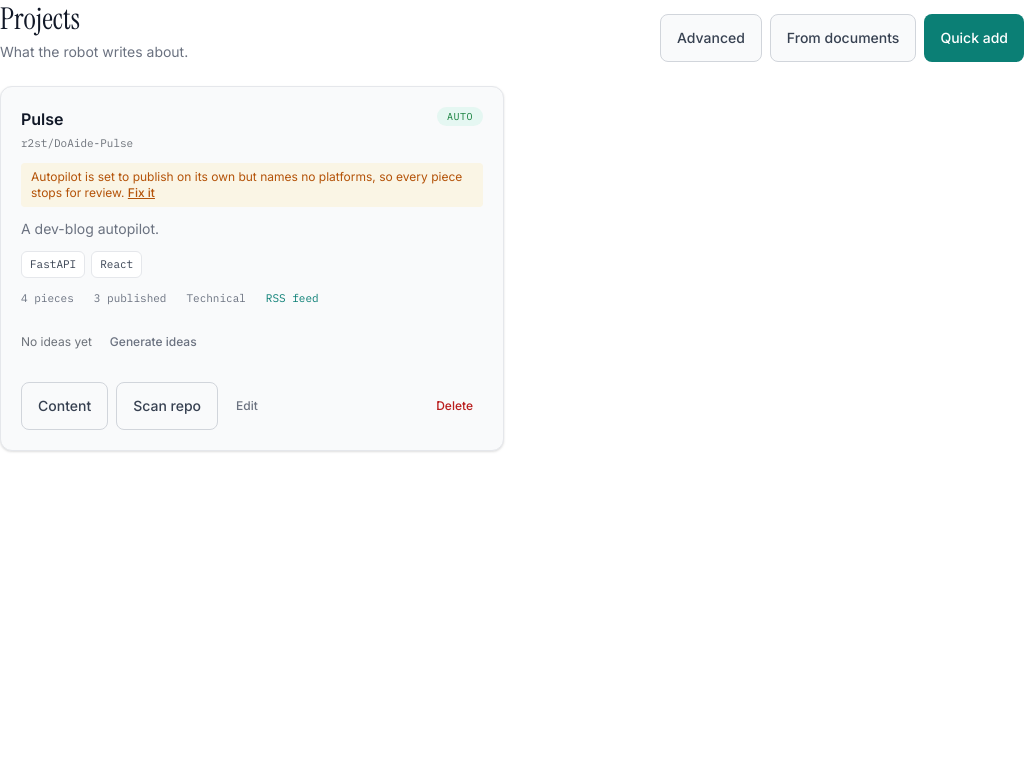
Scenario: a project card › says why an Auto project will never publish on its own, and offers the fix
Expected: the text "names no platforms" is shown, [31, 169, 462, 200]
Click the button "Fix it". click: (141, 193)
box: [128, 185, 155, 201]
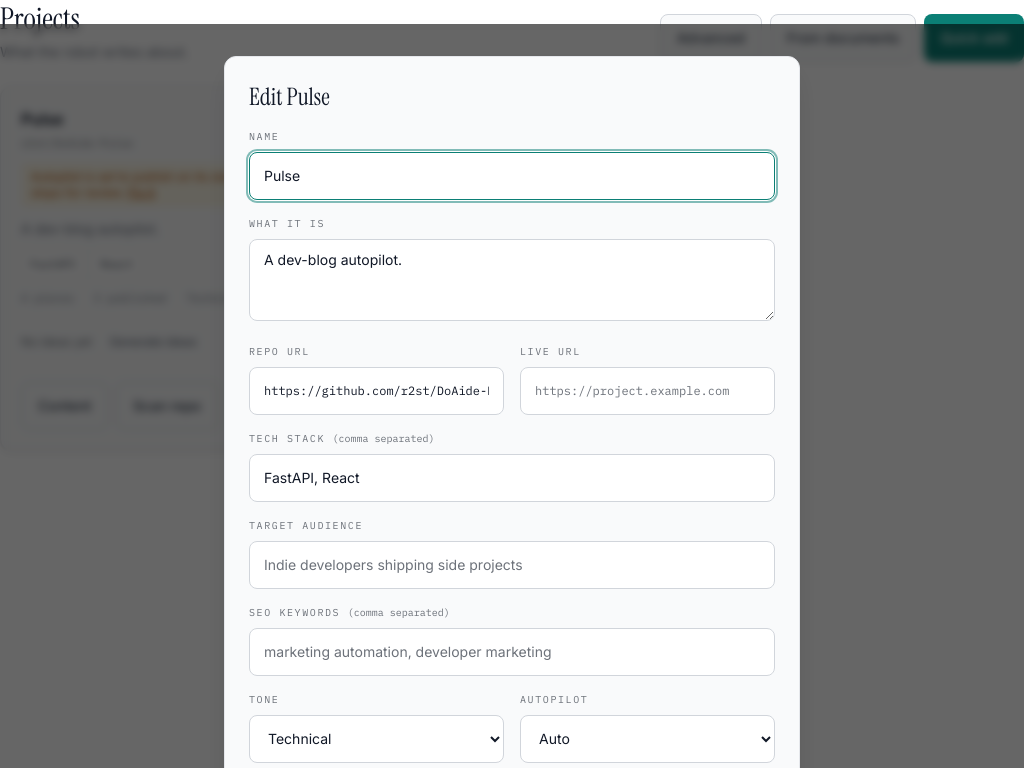
Expected: the heading "Edit Pulse" is shown, [249, 81, 330, 112]
